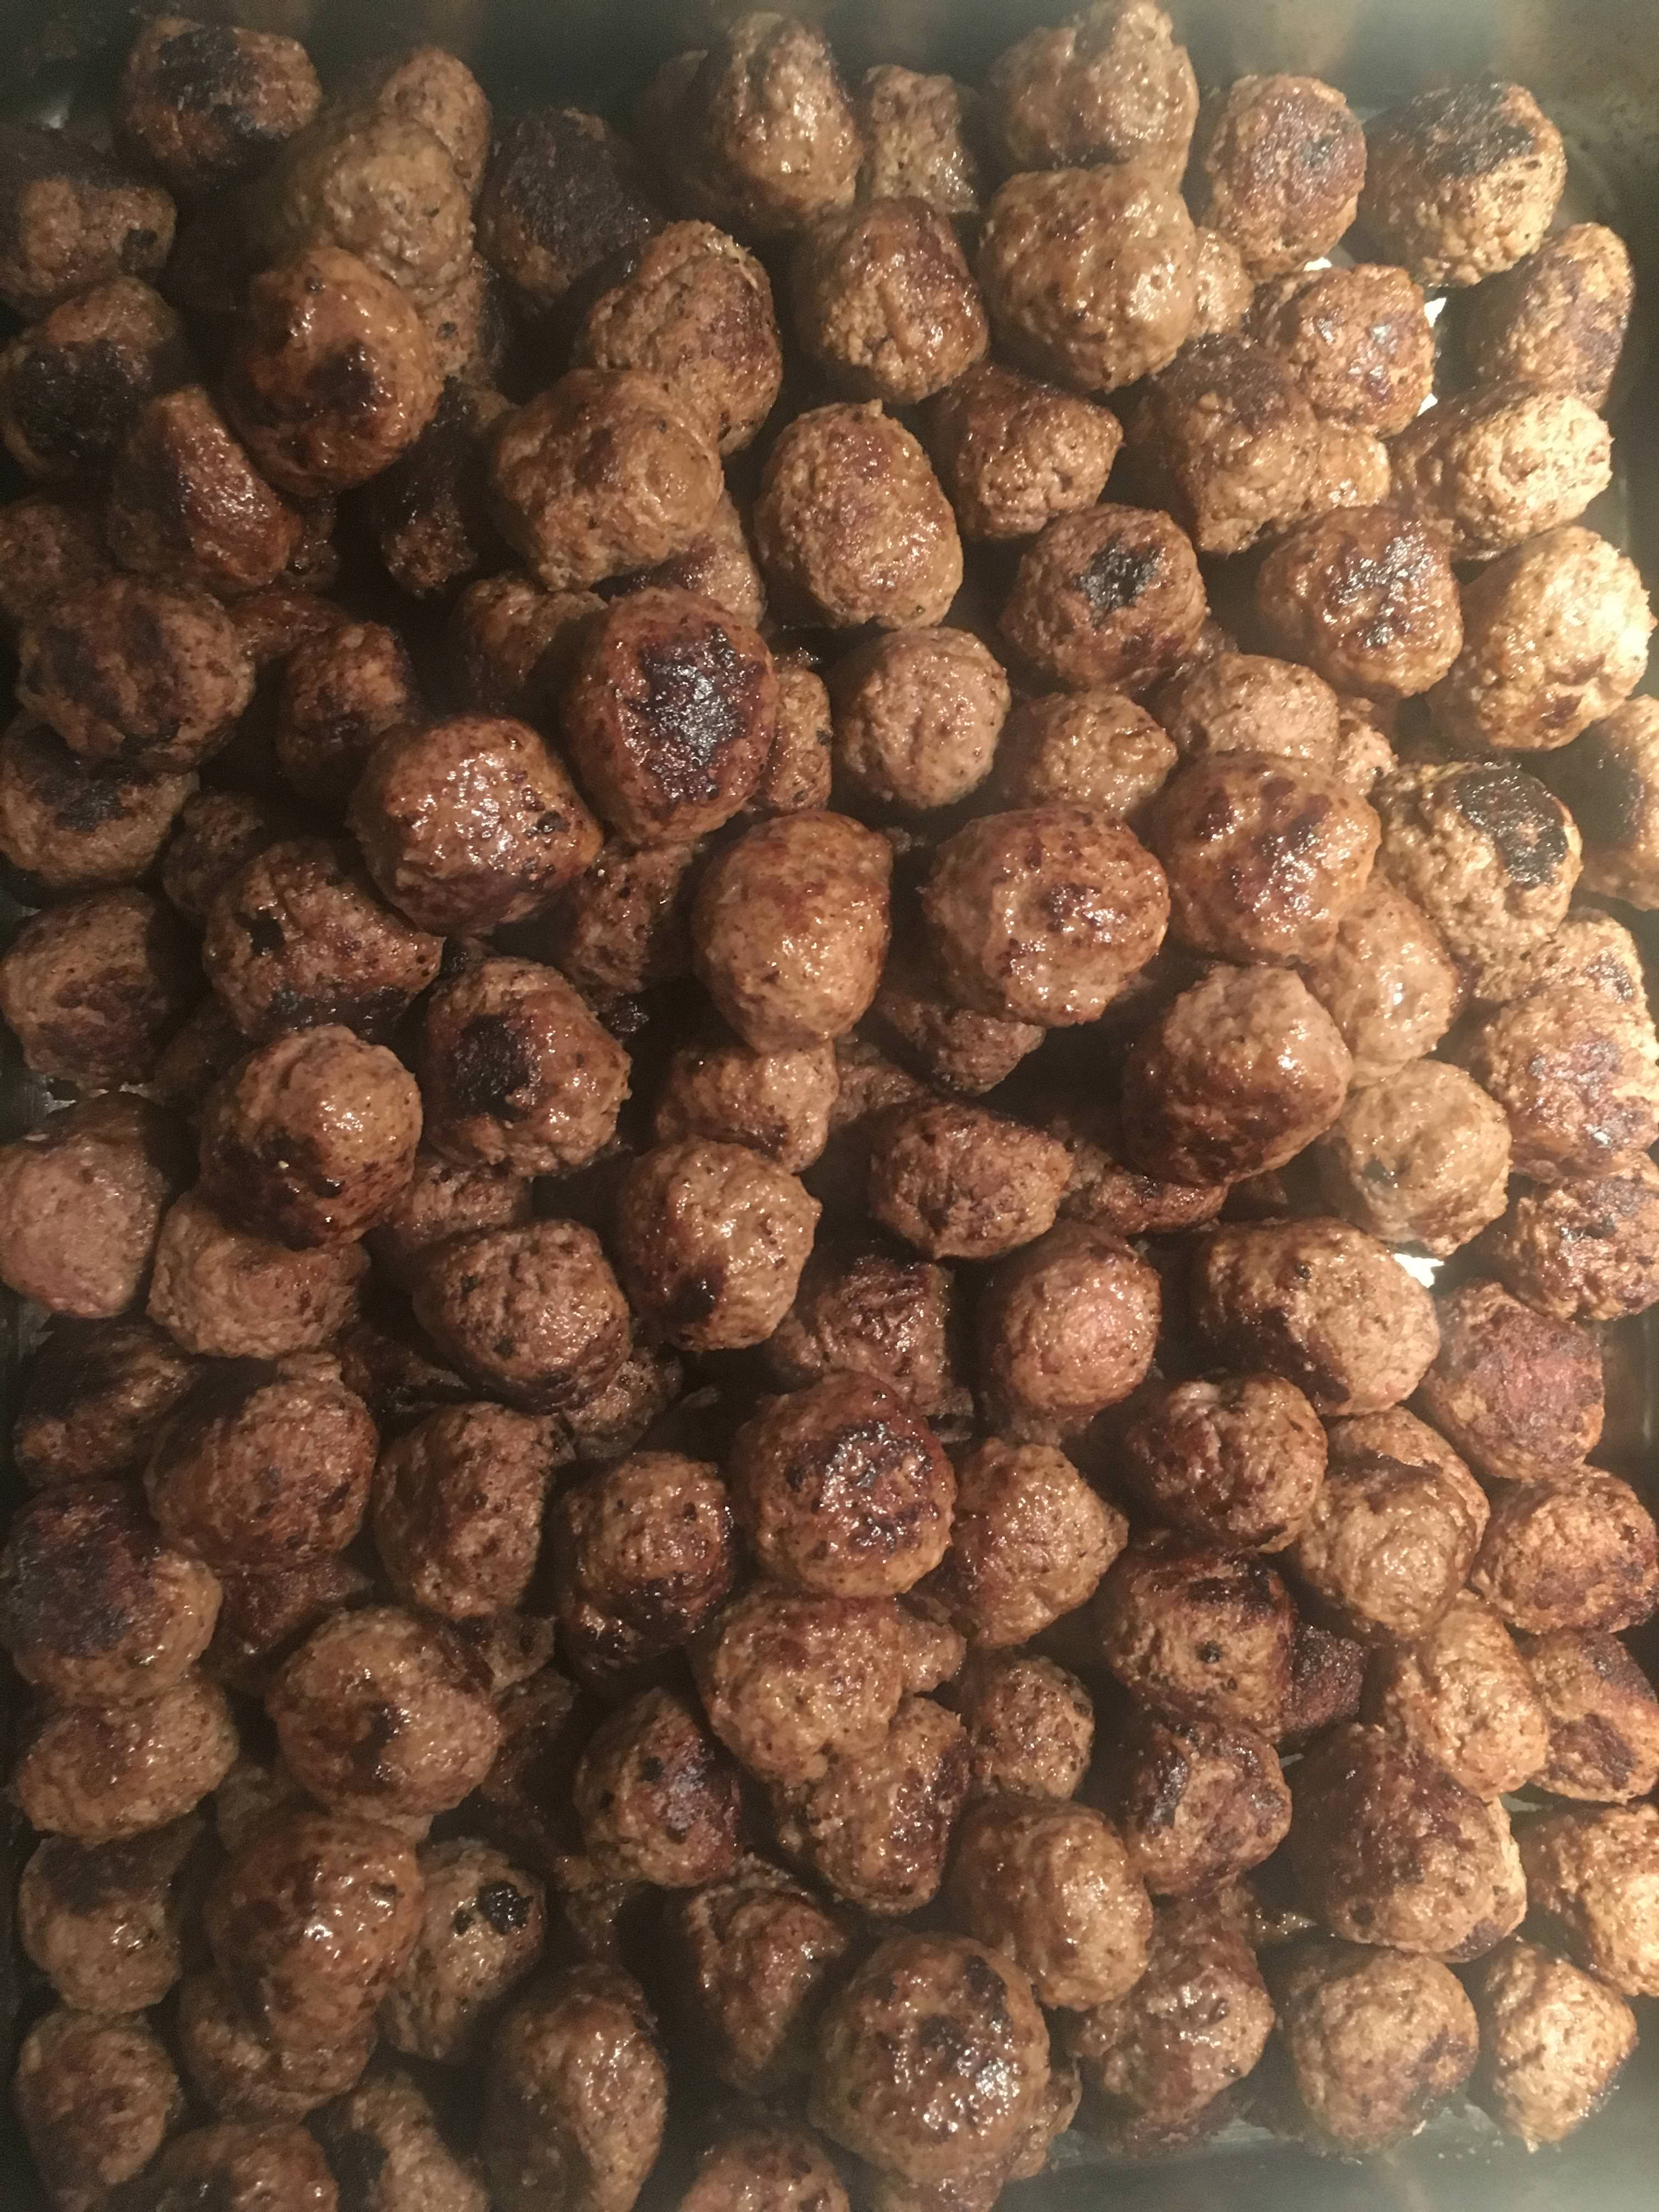meatballs: (44, 59, 1652, 2160)
